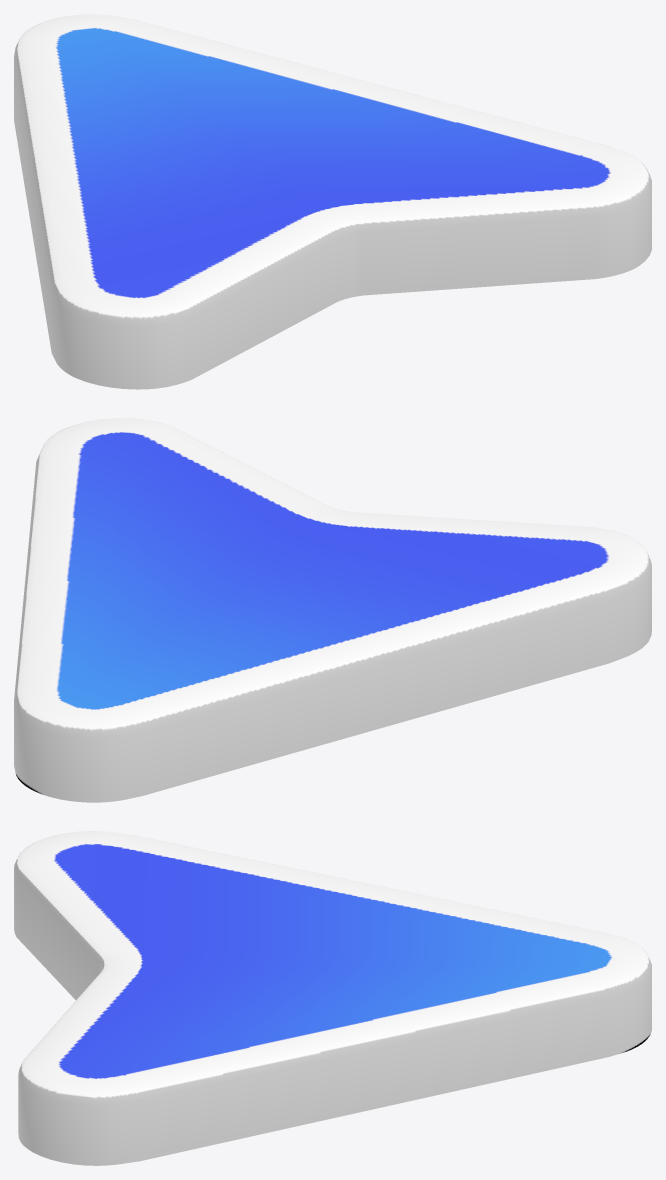
File: mbx-dash_3d-puck_standart.glb
3 renders of one model, top to bottom at view 1: azimuth 30°, elevation 25°; view 2: azimuth 150°, elevation 25°; view 3: azimuth 270°, elevation 25°, orthographic. The views are drawn at different scales.
Visible parts, largest first — view 1: mbx-dash_3d-puck_standart; view 2: mbx-dash_3d-puck_standart; view 3: mbx-dash_3d-puck_standart.
Boxes of the visible parts, x1,y1,x2,y2 form: mbx-dash_3d-puck_standart: (14,14,651,389); mbx-dash_3d-puck_standart: (14,418,651,802); mbx-dash_3d-puck_standart: (14,831,651,1165).
Bounding box in the file's own units: 0.1048 × 0.0127 × 0.1051.
Materials: 1 (1 with a texture image).
